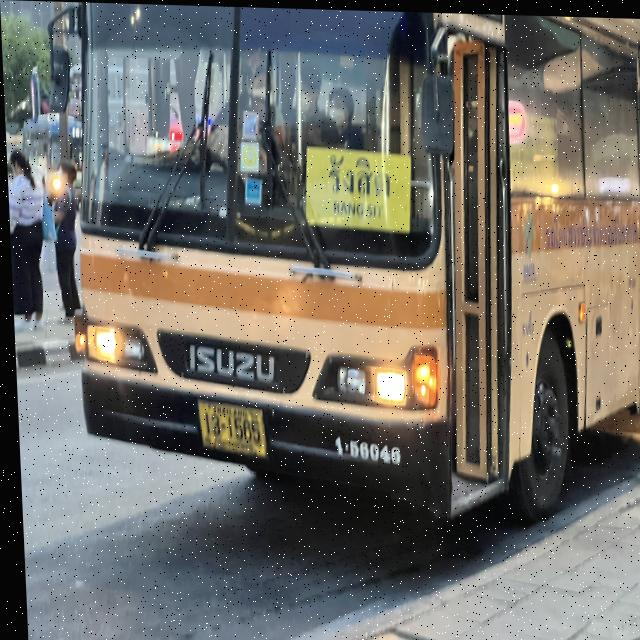BMTA-bus: (53, 1, 640, 539)
Bus Side Number: (325, 425, 404, 471)
Destination Sign: (302, 143, 411, 229)
